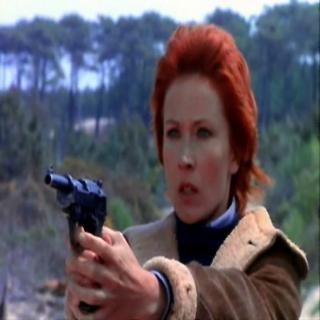gun: (43, 160, 111, 316)
